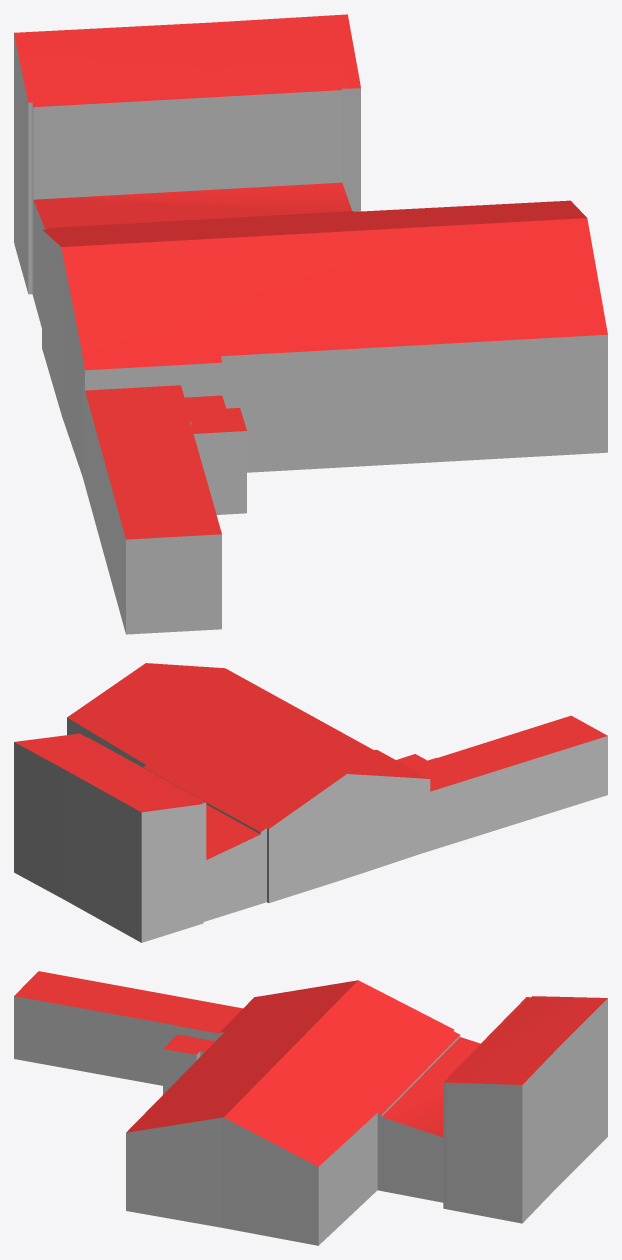
Rendered from DEBY_LOD2_8573598.dae.
The picture shows the model from 3 angles, top to bottom: view 1: azimuth 30°, elevation 25°; view 2: azimuth 150°, elevation 25°; view 3: azimuth 270°, elevation 25°; orthographic projection. The views are drawn at different scales.
Bounding box in the file's own units: 36 × 42.64 × 10.98.
